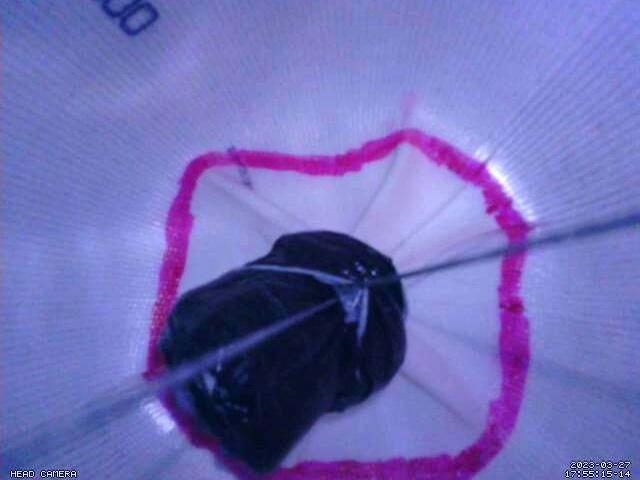red-circle: (140, 126, 534, 480)
